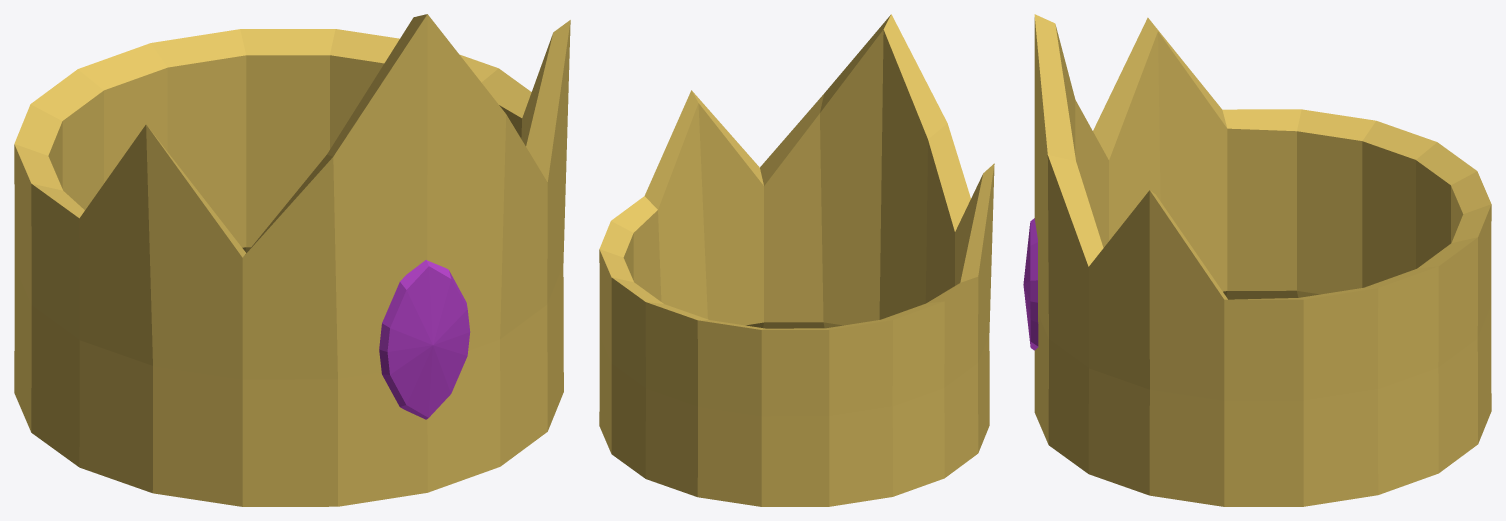
Rendered from Crown.fbx.
3 renders of one model, left to right at view 1: azimuth 30°, elevation 25°; view 2: azimuth 150°, elevation 25°; view 3: azimuth 270°, elevation 25°, orthographic. The views are drawn at different scales.
Visible parts, largest first — view 1: 실린더.003; view 2: 실린더.003; view 3: 실린더.003.
Boxes of the visible parts, x1,y1,x2,y2 form: 실린더.003: (14, 14, 570, 506); 실린더.003: (599, 14, 994, 506); 실린더.003: (1023, 14, 1491, 506).
Bounding box in the file's own units: 8.27 × 8.06 × 8.59.
